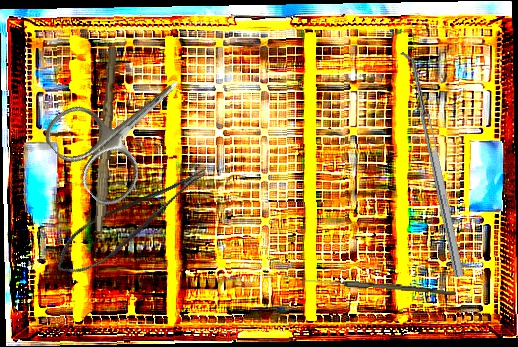Iris Scissors: (37, 42, 213, 214)
Micro Scissor: (43, 162, 223, 285)
Scalpel Handle: (94, 46, 119, 234)
Spatula Surgical: (398, 49, 464, 280)
Surgical Spoon: (303, 277, 457, 296)
